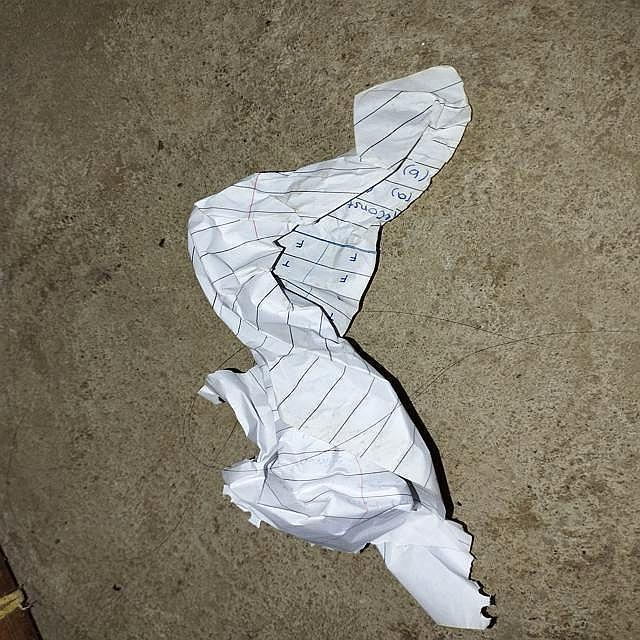Biodegradable: (183, 63, 491, 627)
